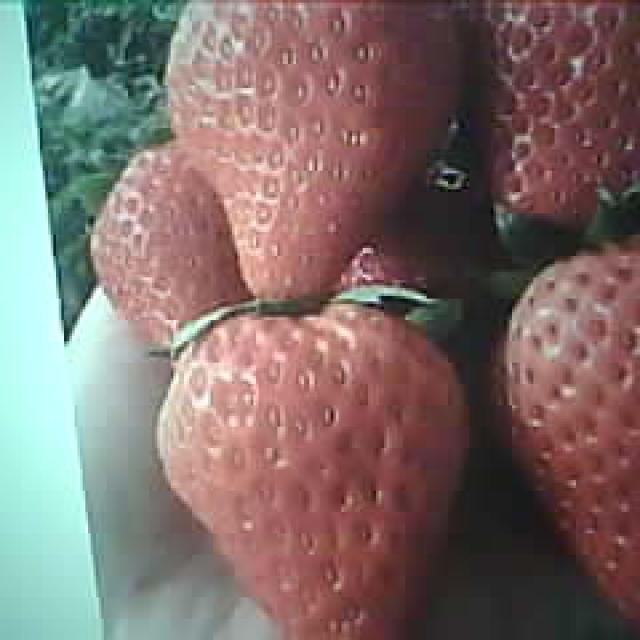ripe: (159, 315, 467, 640), (168, 0, 459, 307)
